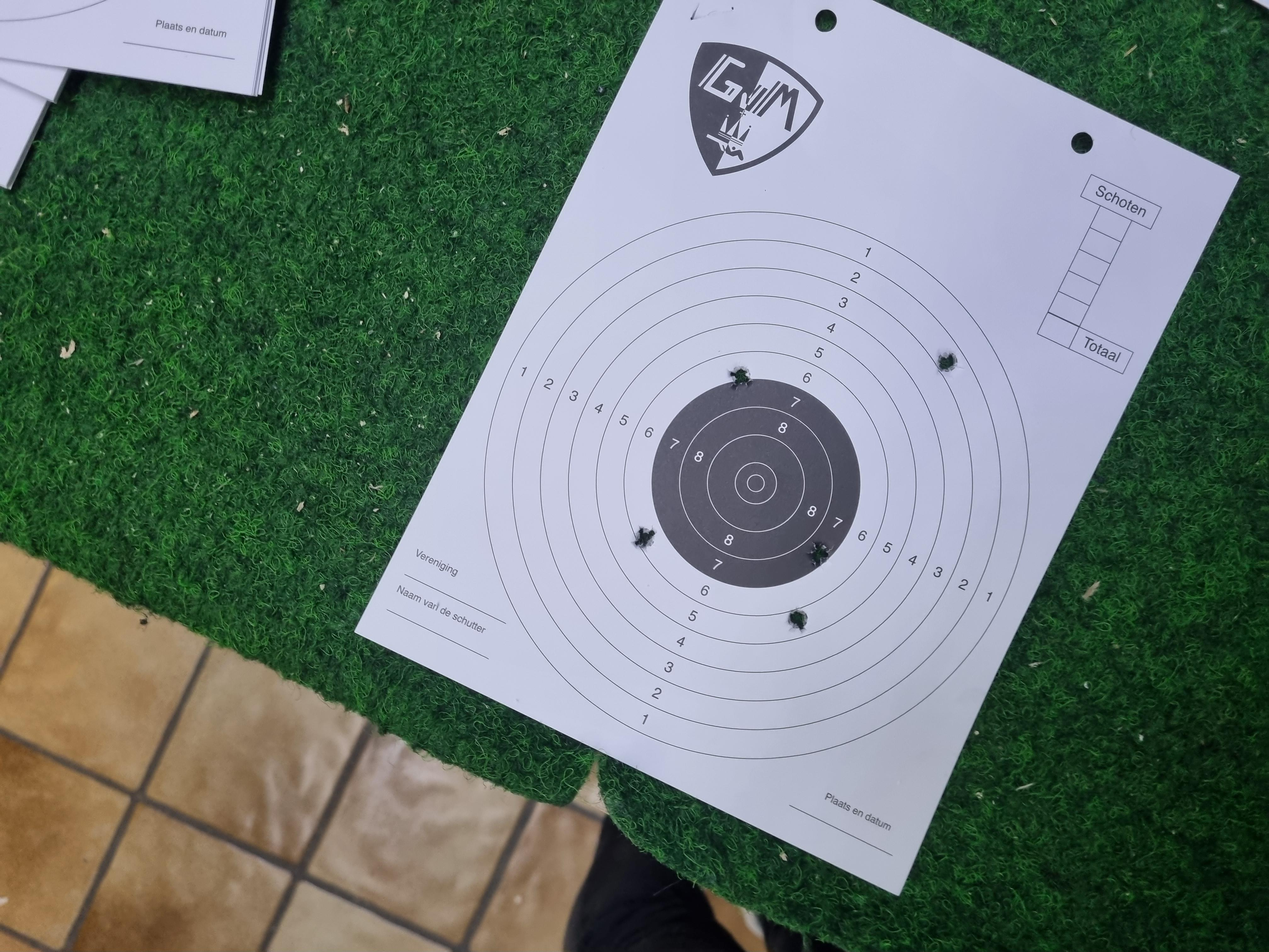hole: (747, 545, 783, 566), (770, 701, 803, 721), (514, 605, 547, 625), (423, 589, 457, 608), (536, 474, 566, 493)
